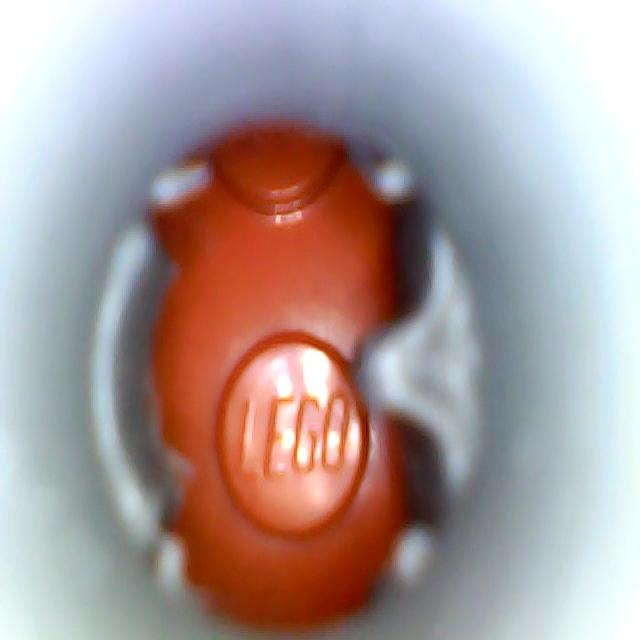studs: (217, 335, 368, 533), (210, 125, 348, 215)
